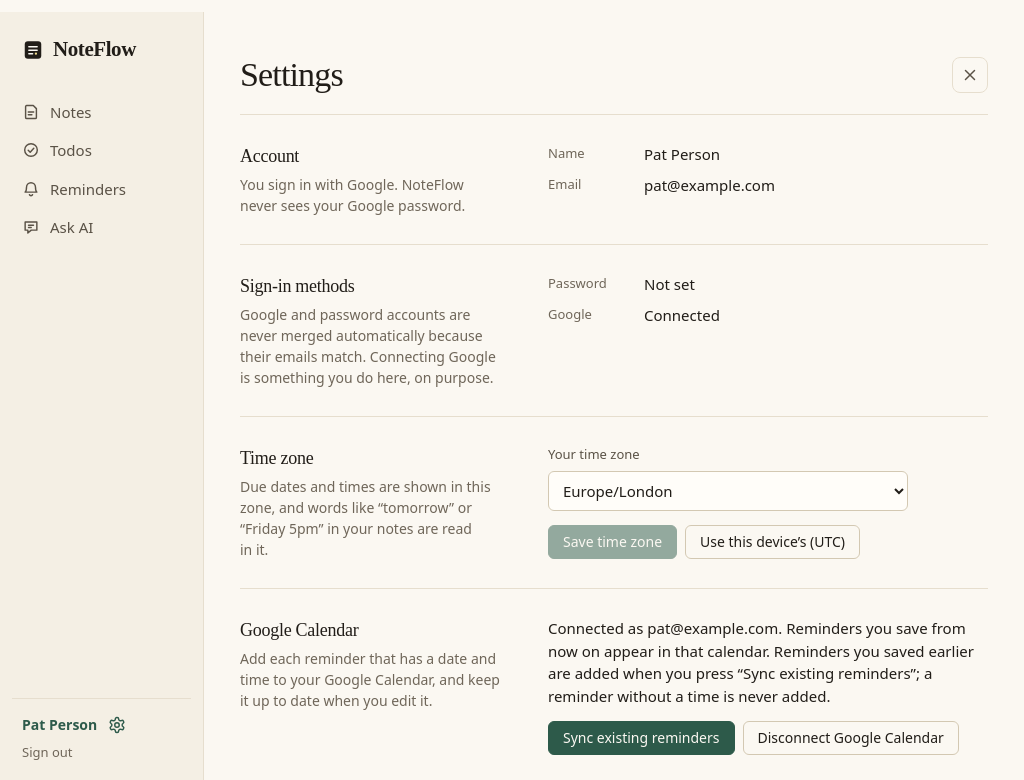
Google Calendar settings › Sync existing reminders › asks to reconnect when Google refuses the permission
Click the button "Sync existing reminders" at (641, 738), box top-left (548, 721), bottom-right (734, 755)
(page scrolled)
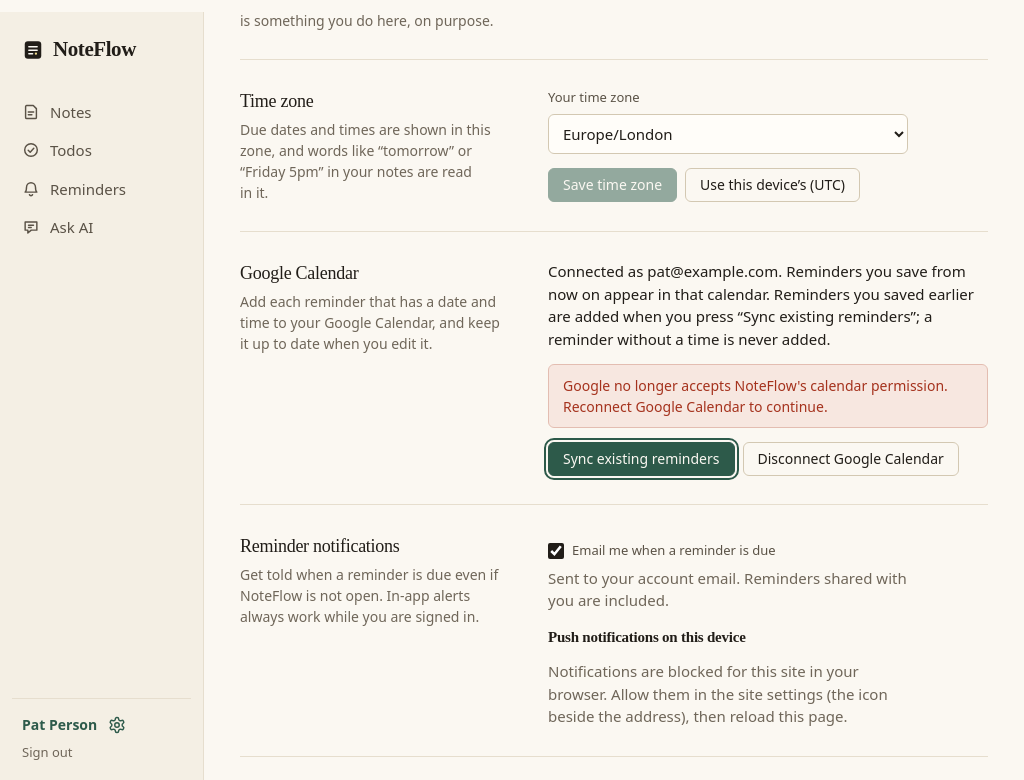
Result: the message shows "no longer accepts" at top-left (563, 376), bottom-right (948, 416)
